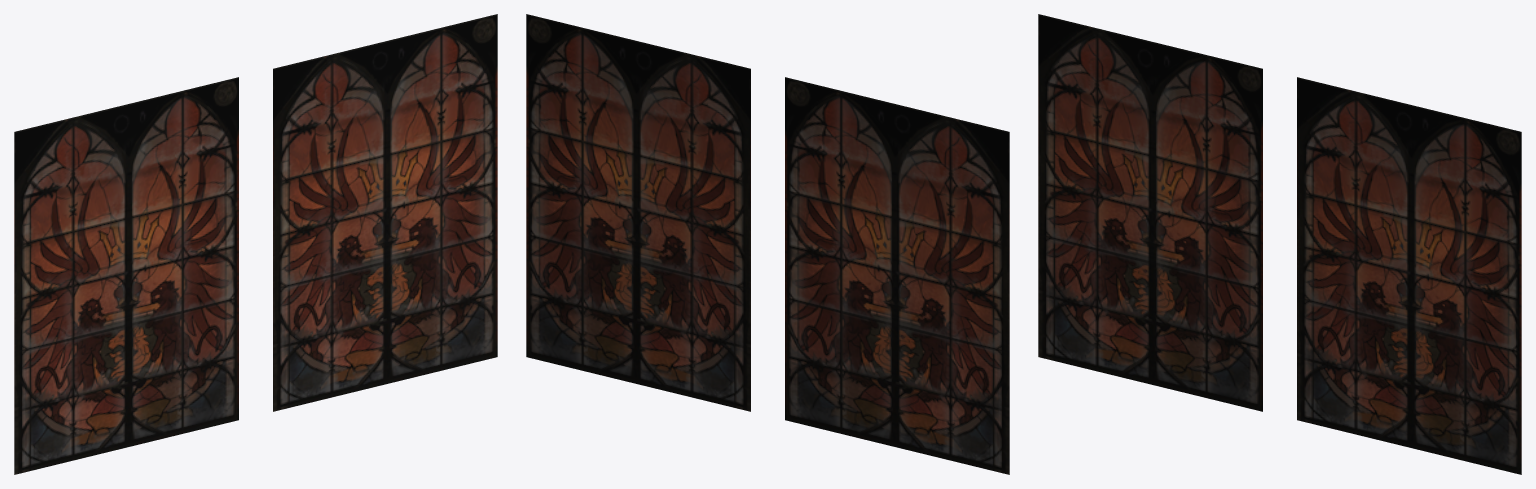
The model's file is d_Glass.FBX.
3 views of the same model, side by side, from view 1: azimuth 30°, elevation 25°; view 2: azimuth 150°, elevation 25°; view 3: azimuth 330°, elevation 25° (orthographic).
Parts seen in each view (by area): view 1: Box001, Box002; view 2: Box001, Box002; view 3: Box001, Box002.
Part boxes in pixels (x1,y1,x2,y2): Box001: (273, 14, 497, 411); Box002: (14, 77, 238, 474); Box001: (526, 14, 750, 411); Box002: (785, 77, 1009, 474); Box001: (1297, 77, 1521, 474); Box002: (1038, 14, 1262, 411).
Size of the model in its own units: 2000 by 1357 by 3.84e-13.
1 material, 1 textured.
